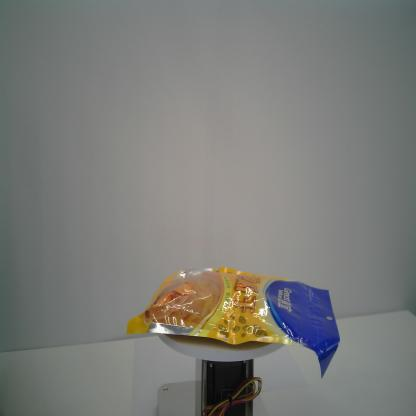Dried Fruit: (125, 264, 341, 379)
